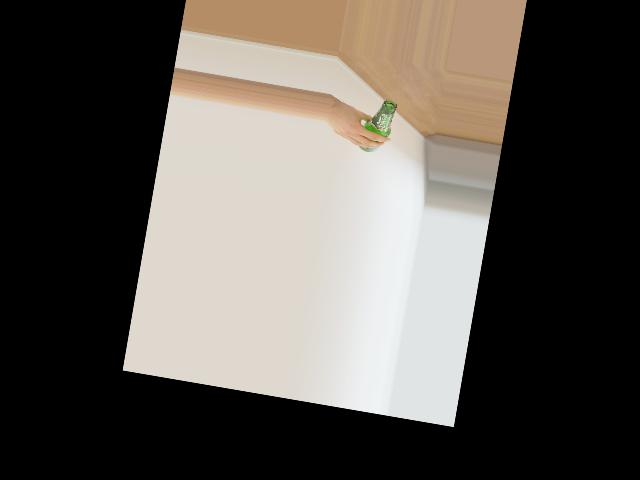beer: (359, 96, 397, 155)
